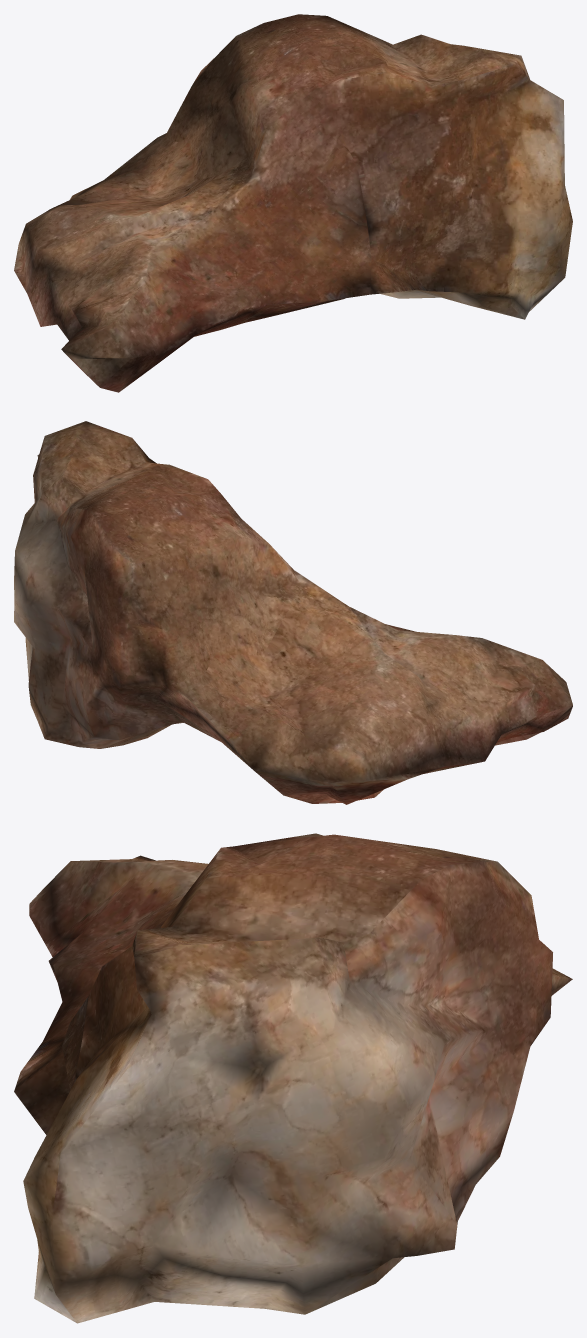
3 views of the same model, one above another, from view 1: azimuth 30°, elevation 25°; view 2: azimuth 150°, elevation 25°; view 3: azimuth 270°, elevation 25° (orthographic). The views are drawn at different scales.
Visible parts, largest first — view 1: stone_01; view 2: stone_01; view 3: stone_01.
Boxes of the visible parts, bbox=[...] form: stone_01: bbox=[14, 14, 572, 392]; stone_01: bbox=[14, 421, 572, 804]; stone_01: bbox=[14, 833, 572, 1323].
Size of the model in its own units: 0.146 by 0.0704 by 0.0886.
1 material, 1 textured.
